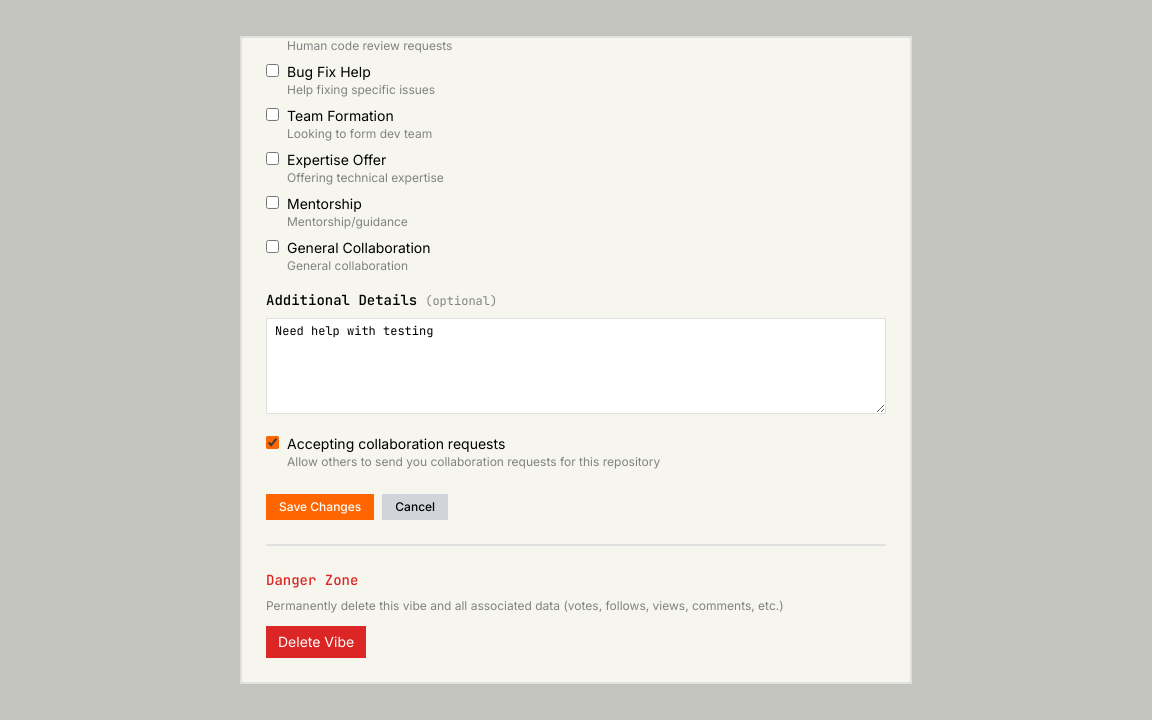
Test: EditVibeModal › Delete Functionality › should show confirmation dialog when delete is clicked
(page scrolled)
Click the button "Delete Vibe".
click(316, 642)  # box [266,626,366,658]
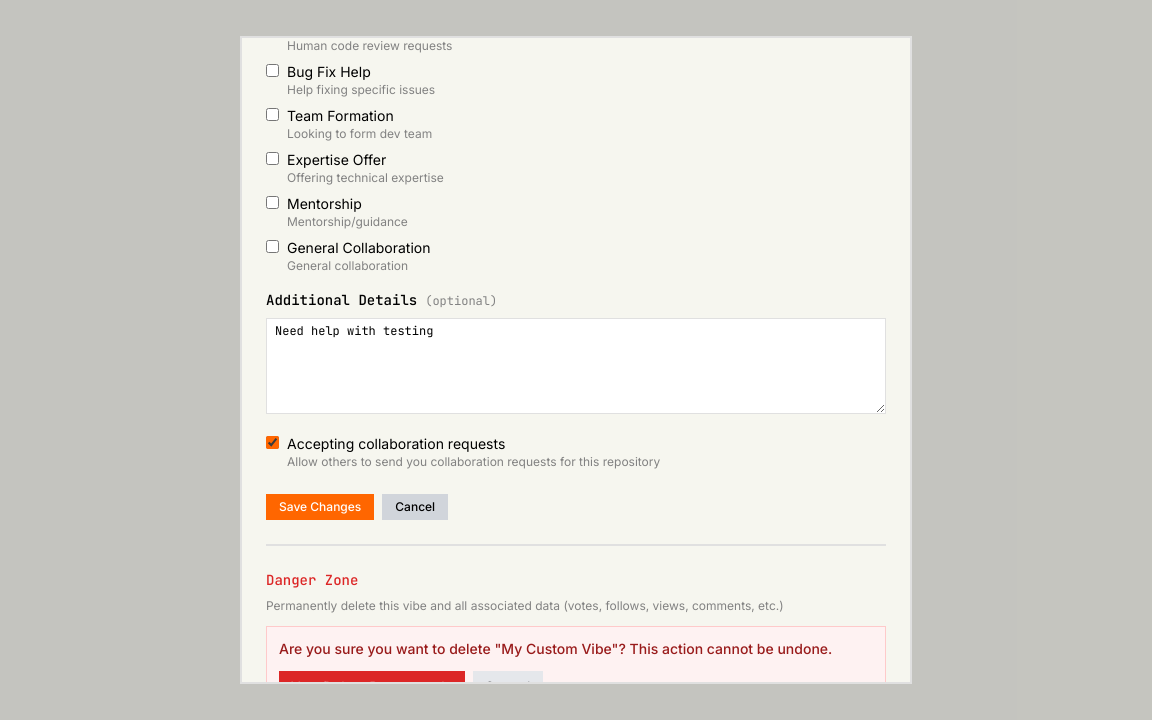
Now the text "Are you sure you want to delete" is shown, box [279,640,501,657]
Now the text "This action cannot be undone" is shown, box [612,640,832,657]
